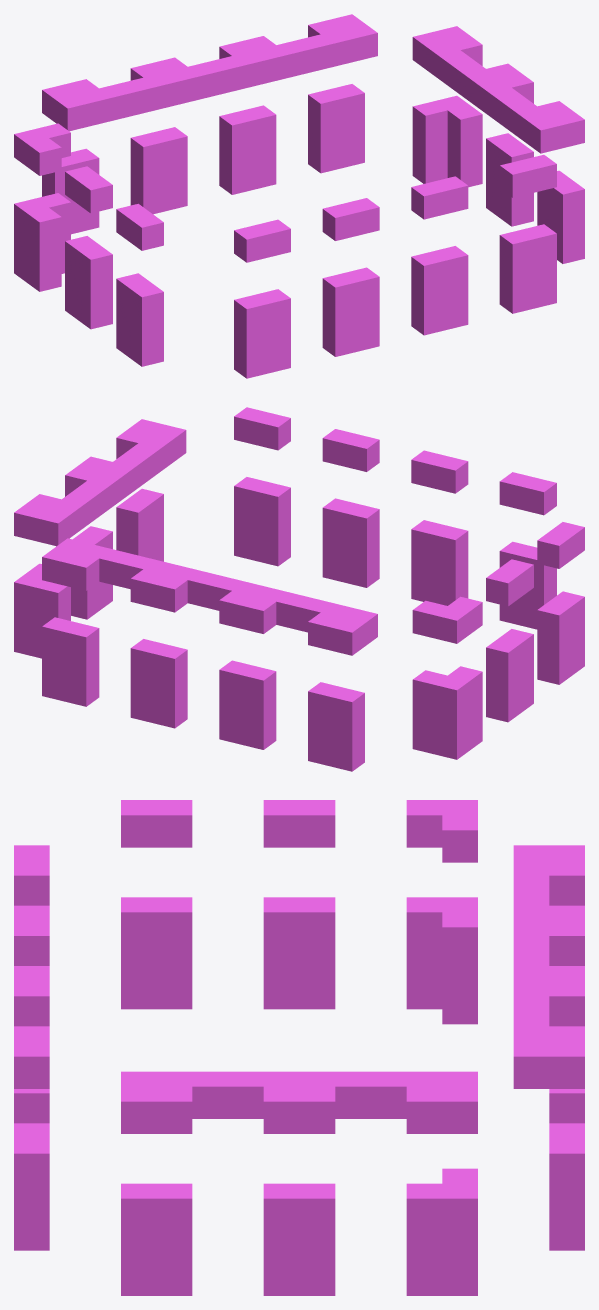
The picture shows the model from 3 angles, top to bottom: view 1: azimuth 30°, elevation 25°; view 2: azimuth 150°, elevation 25°; view 3: azimuth 270°, elevation 25°; orthographic projection. The views are drawn at different scales.
Visible parts, largest first — view 1: 98.1; view 2: 98.1; view 3: 98.1.
Boxes of the visible parts, box(x1,y1,x2,y2) form: 98.1: box(14, 14, 584, 378); 98.1: box(14, 407, 584, 771); 98.1: box(14, 800, 584, 1295).
Size of the model in its own units: 200 by 60 by 160.
1 material, 1 textured.
